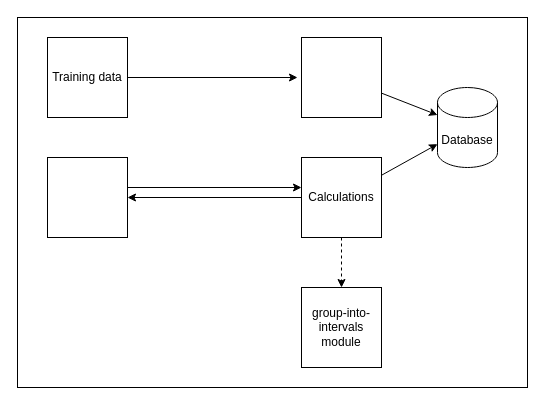
This 545x405 diagram has some shape labels left out. The shapes that lost their labels are listed below. From the top down, each one's centre as x and y in pixels, then its label:
[341,77]: Indata processing
[87,197]: Statistics
